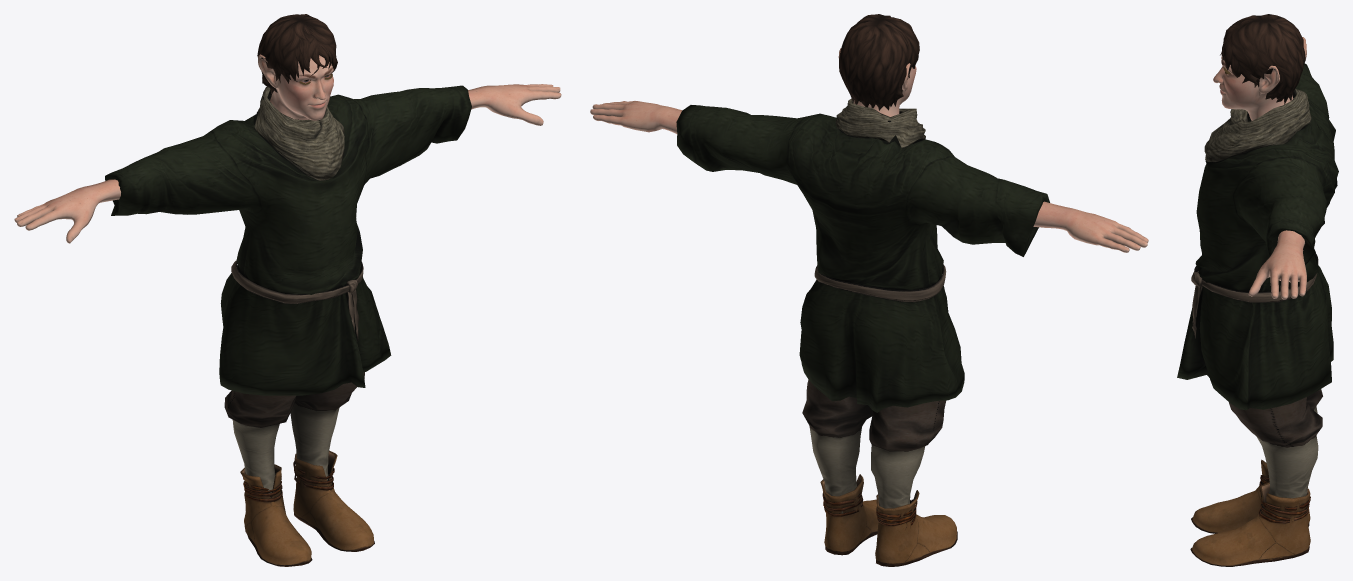
File: pippen.obj
3 views of the same model, side by side, from view 1: azimuth 30°, elevation 25°; view 2: azimuth 150°, elevation 25°; view 3: azimuth 270°, elevation 25° (orthographic). The views are drawn at different scales.
Visible parts, largest first — view 1: Tops, Shoes, Body, Bottoms, Hair; view 2: Tops, Bottoms, Shoes, Hair, Body; view 3: Tops, Shoes, Bottoms, Hair, Body.
Part boxes in pixels (x1,y1,x2,y2): Tops: (105, 85, 471, 395); Shoes: (240, 450, 374, 566); Body: (14, 54, 561, 243); Bottoms: (224, 372, 364, 493); Hair: (257, 14, 337, 94); Tops: (676, 98, 1049, 412); Bottoms: (802, 379, 945, 513); Shoes: (820, 474, 957, 566); Hair: (839, 14, 919, 110); Body: (590, 48, 1148, 252); Tops: (1177, 63, 1338, 410); Shoes: (1190, 459, 1310, 566); Bottoms: (1229, 389, 1322, 498); Hair: (1220, 14, 1305, 104); Body: (1213, 37, 1306, 299).
Size of the model in its own units: 168 by 153 by 42.89.
Materials: 5 (5 with a texture image).
